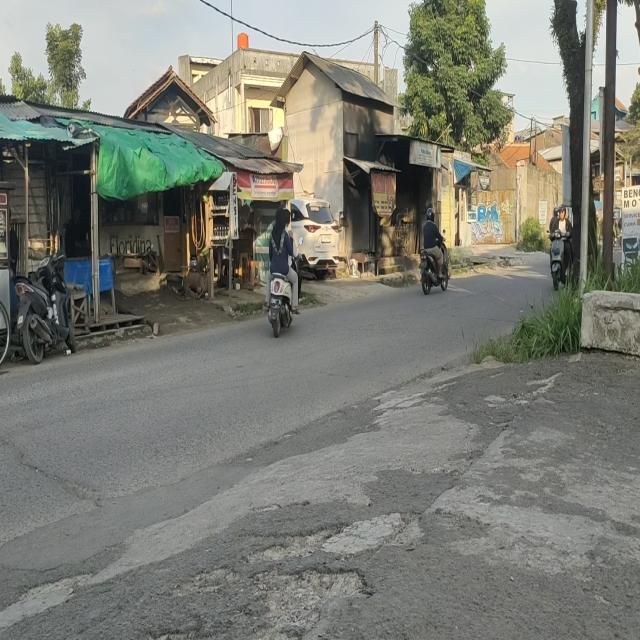helmet: (558, 205, 566, 220), (427, 206, 434, 222), (566, 206, 570, 222), (554, 207, 558, 216)
no-helmet: (276, 208, 286, 229), (285, 207, 291, 229)
